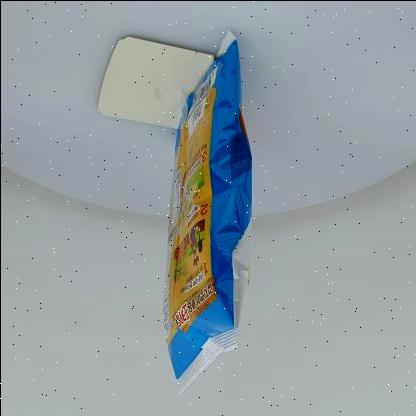Others: (118, 8, 270, 412)
